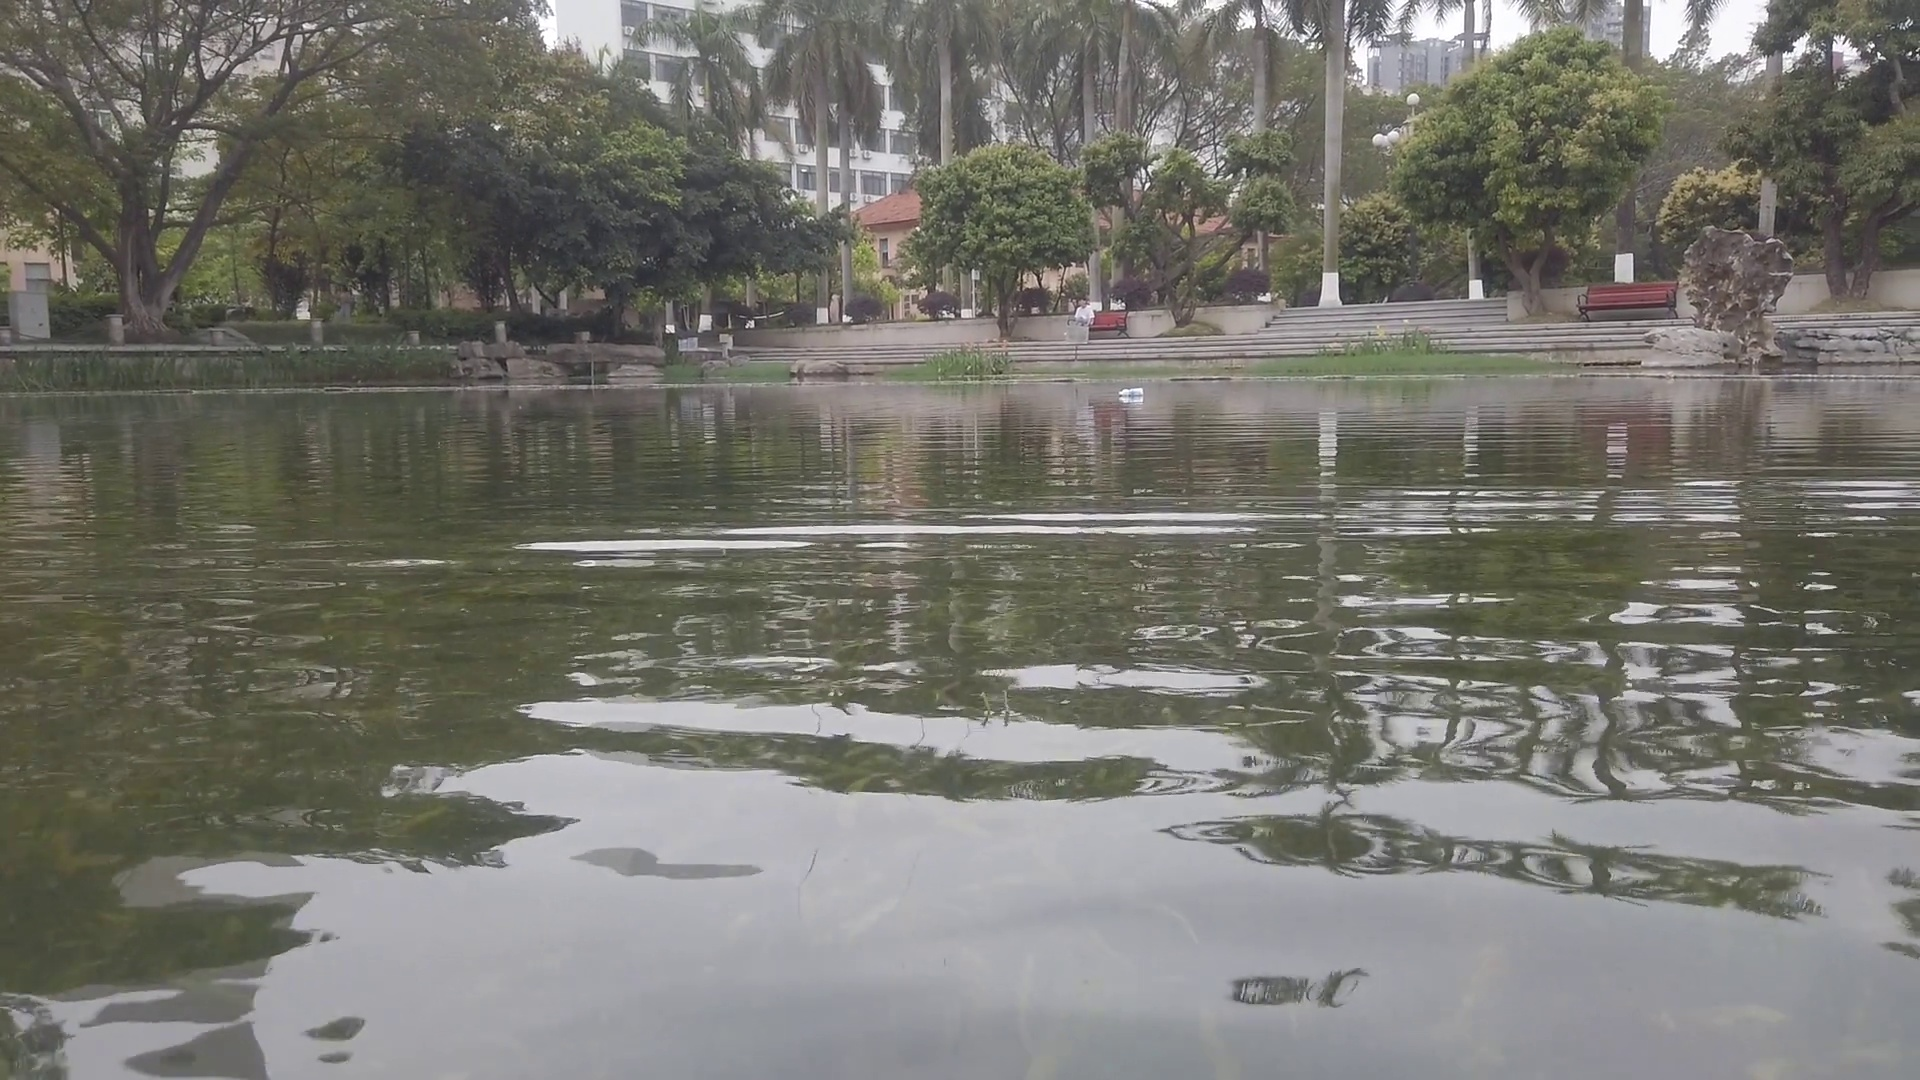bottle: (1118, 386, 1145, 397)
